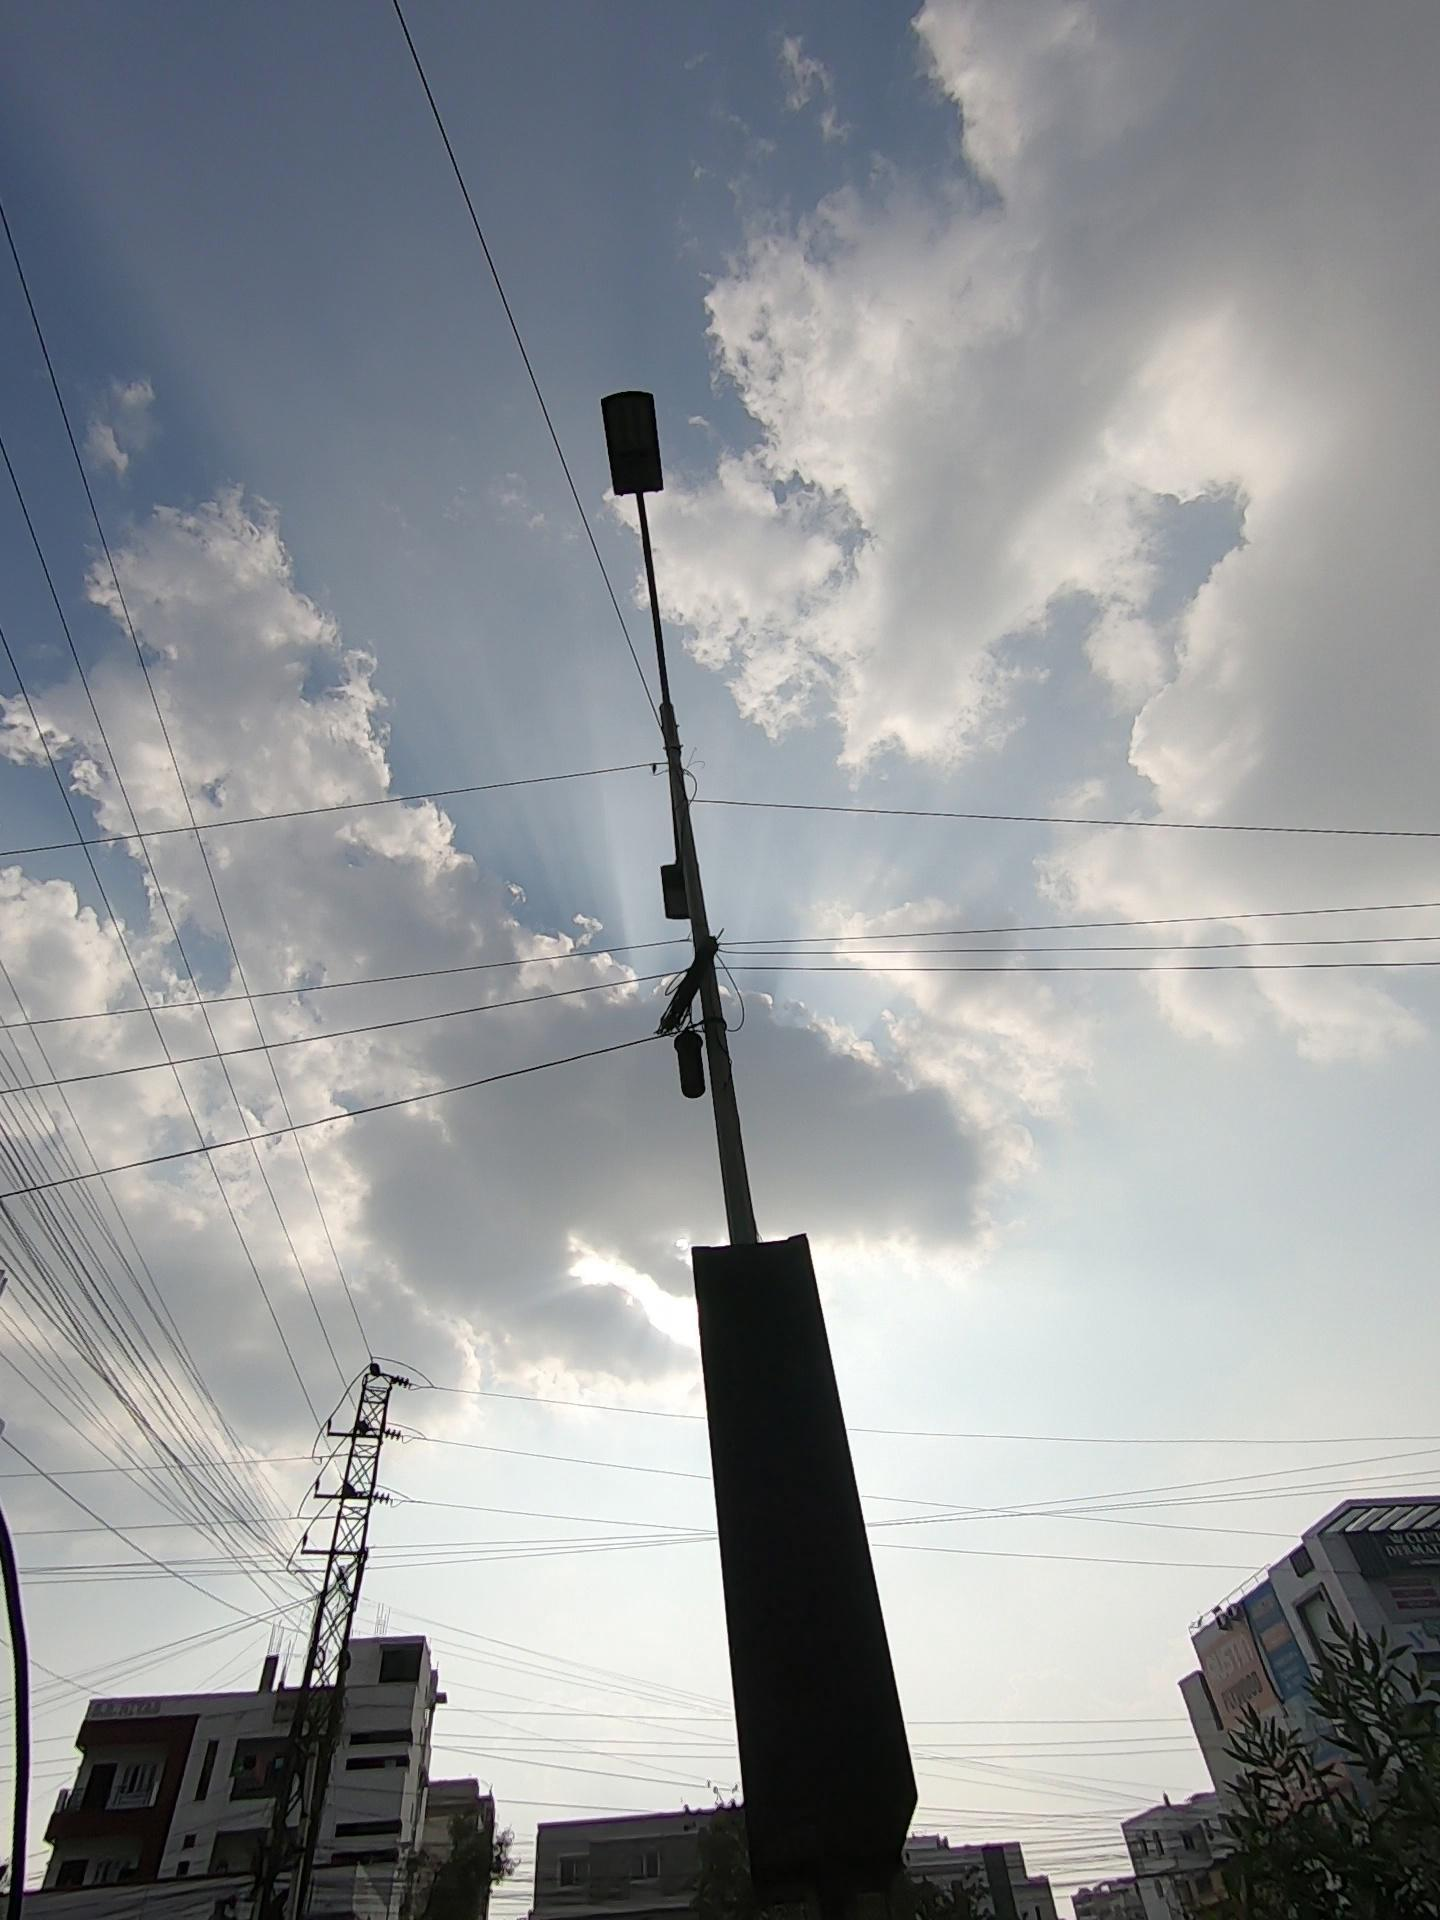off: (579, 331, 859, 1135)
